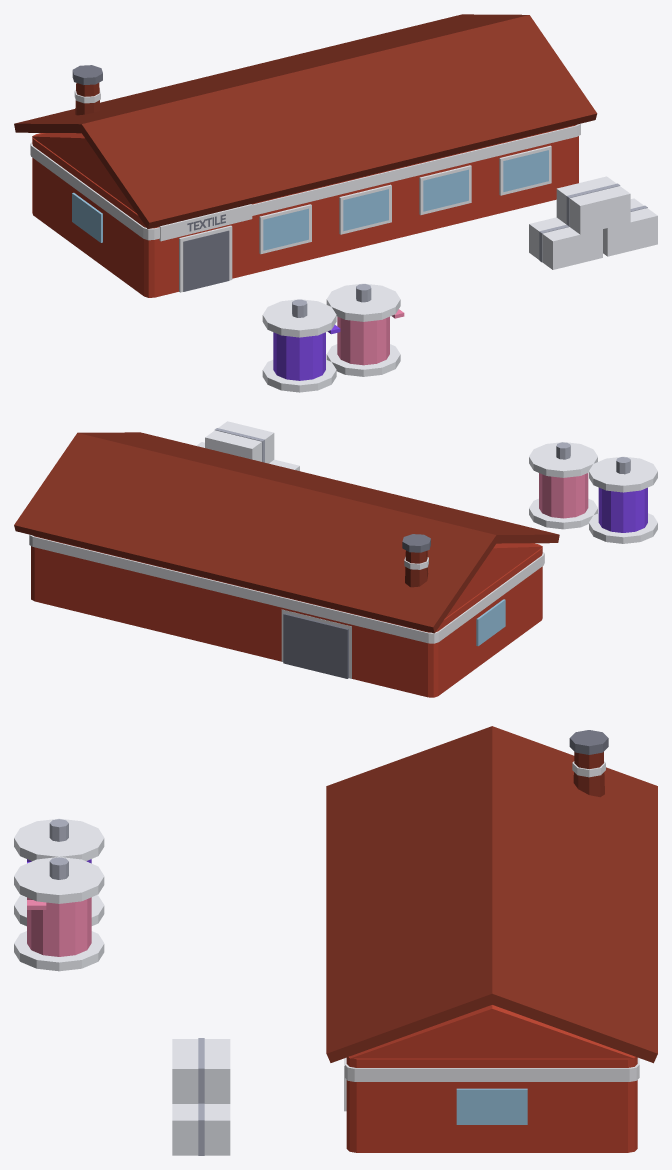
Rendered from textile-mill-2x2-t2-tone-a.glb.
3 renders of one model, top to bottom at view 1: azimuth 30°, elevation 25°; view 2: azimuth 150°, elevation 25°; view 3: azimuth 270°, elevation 25°, orthographic. The views are drawn at different scales.
Parts seen in each view (by area): view 1: textile-mill-2x2-t2-tone-a; view 2: textile-mill-2x2-t2-tone-a; view 3: textile-mill-2x2-t2-tone-a.
Boxes of the visible parts, <box> form: textile-mill-2x2-t2-tone-a: <box>14,14,657,392</box>; textile-mill-2x2-t2-tone-a: <box>14,421,657,697</box>; textile-mill-2x2-t2-tone-a: <box>14,726,657,1155</box>.
Size of the model in its own units: 1.96 by 0.61 by 1.99.
Materials: 1 (1 with a texture image).
